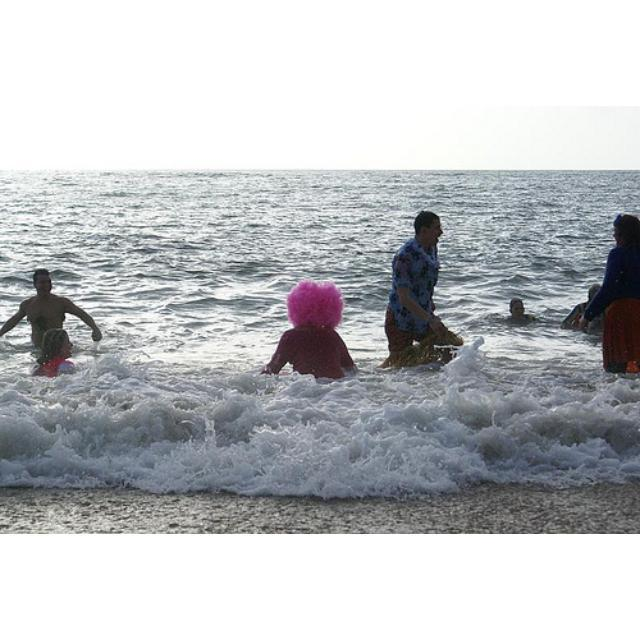human: (384, 209, 465, 366), (1, 269, 104, 355), (590, 213, 639, 379), (273, 324, 362, 386), (36, 329, 76, 377), (507, 298, 533, 323)
